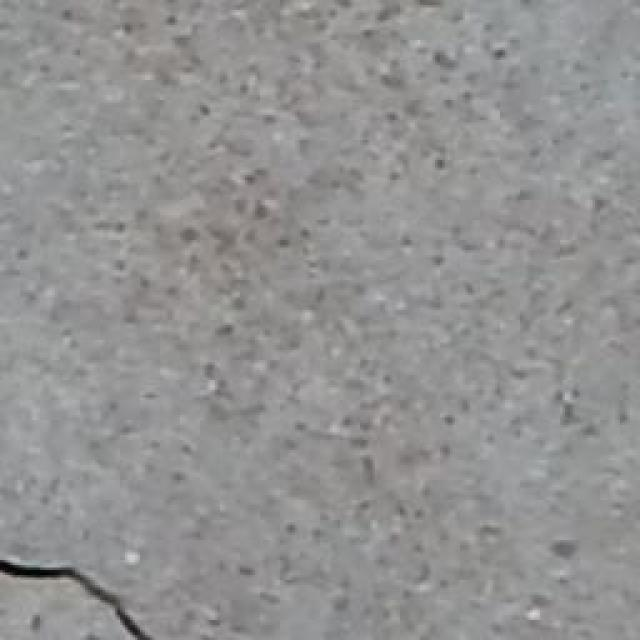concrete-crack: (0, 549, 168, 640)
